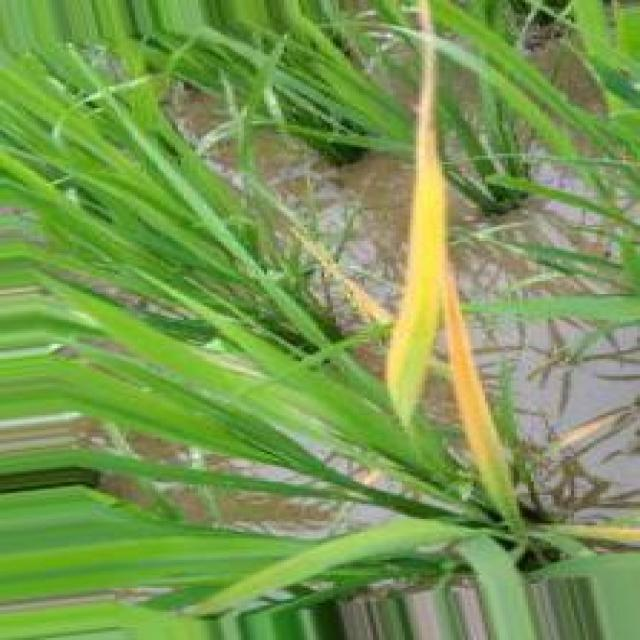Rice Tungro: (385, 0, 446, 426), (441, 258, 519, 524)
